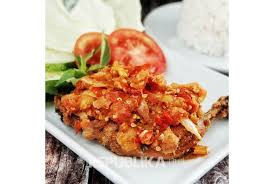ayam_geprek: (55, 55, 205, 166)
